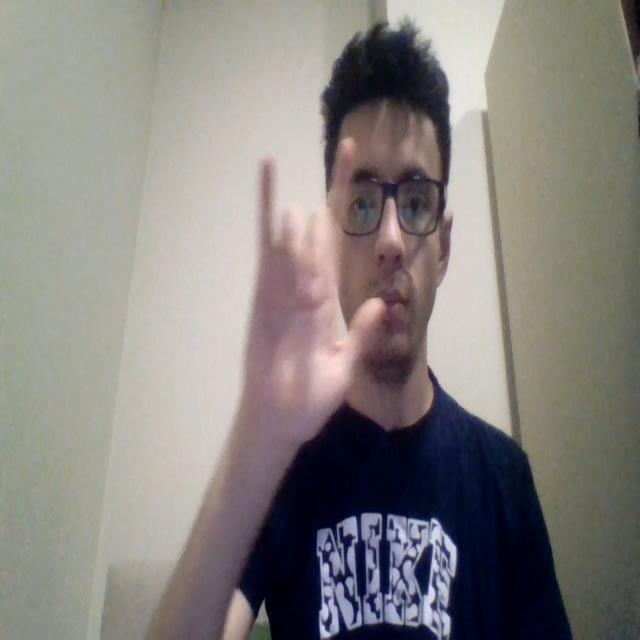iloveyou: (241, 155, 387, 448)
